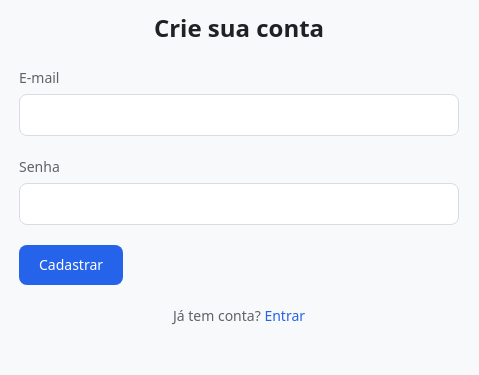
Test: RegisterForm › shows friendly error when password is too short
Type "john@test.com" into the field labelled "E-mail" at (239, 115), box [19, 94, 459, 136]
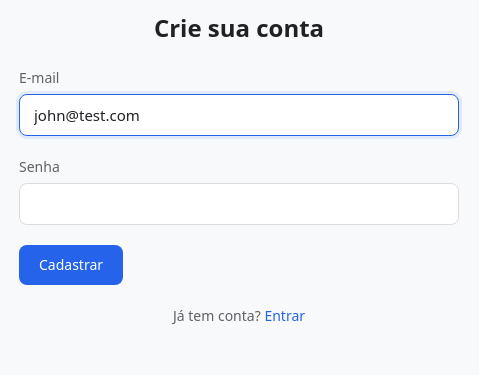
Type "123" into the password field labelled "Senha" at (239, 204), box [19, 183, 459, 225]
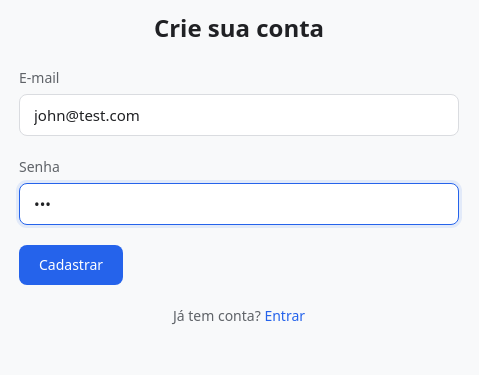
Click the button "Cadastrar" at (71, 265), box [19, 245, 123, 285]
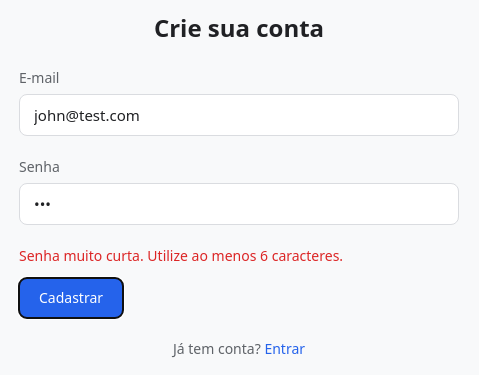
expect the text "Senha muito curta. Utilize ao menos 6 caracteres." is shown: met, box [19, 246, 343, 265]
